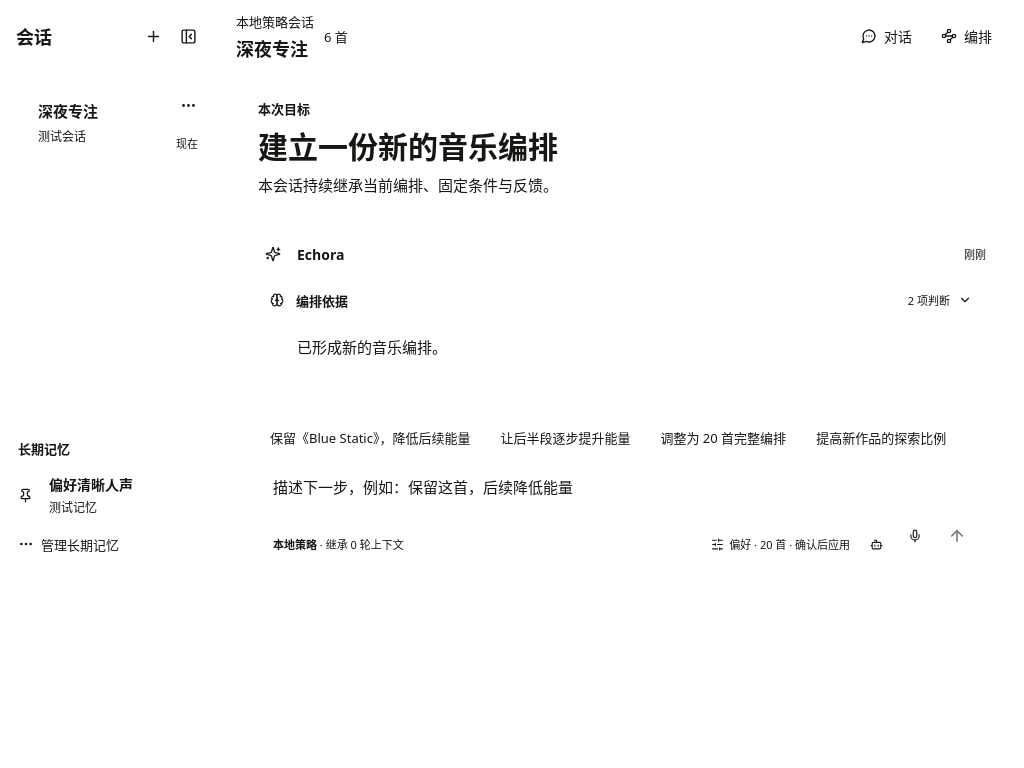
it: AgentSessionSpace › keeps provider reasoning collapsed after completion
The width and height of the screenshot is (1024, 768).
What coordinates should you click on to do the following:
click the text "编排依据"
I would click on:
 (322, 300)
Its box is left=296, top=292, right=348, bottom=310.
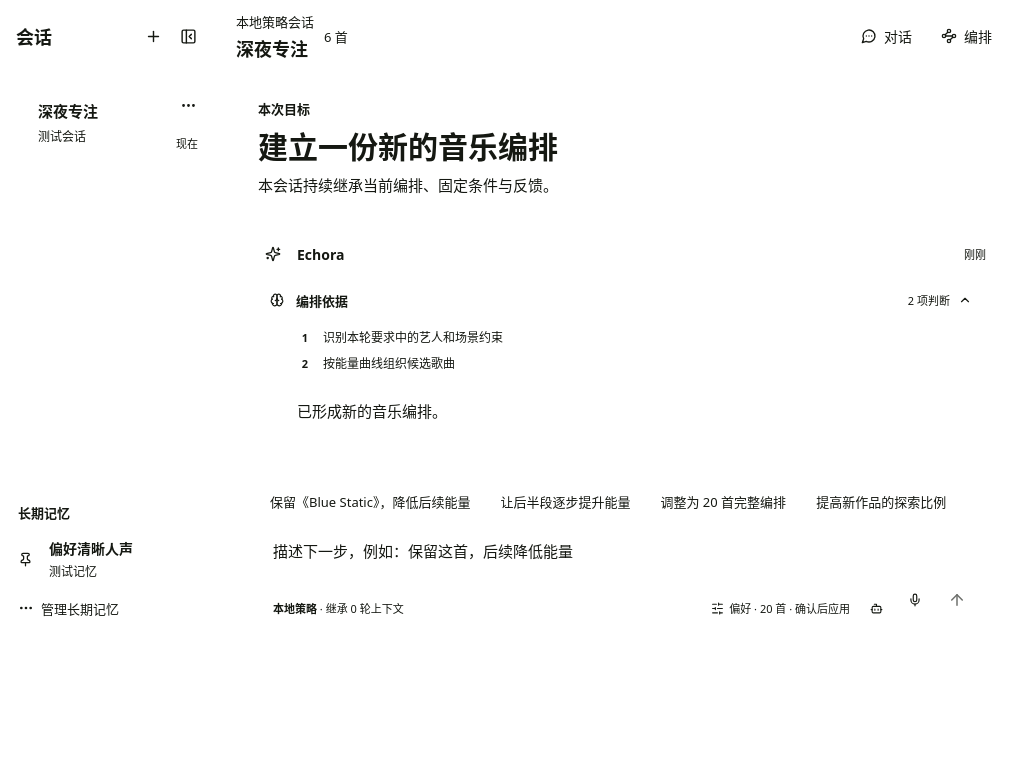
Check: the text "按能量曲线组织候选歌曲" is shown, box left=323, top=355, right=455, bottom=372
